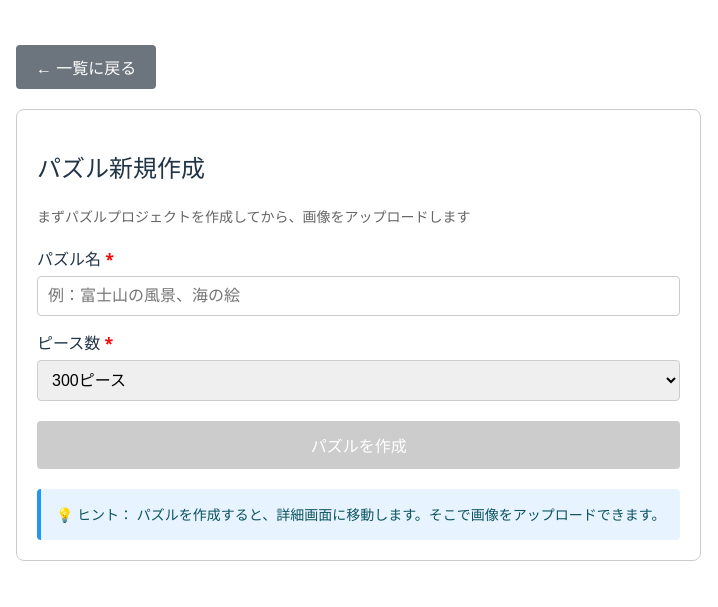
Test: PuzzleCreate › 作成失敗時にエラーメッセージが表示される
Type "テストパズル" into the field with placeholder "例：富士山の風景、海の絵".
click(359, 296); type("テストパズル")  # box [37,276,680,316]
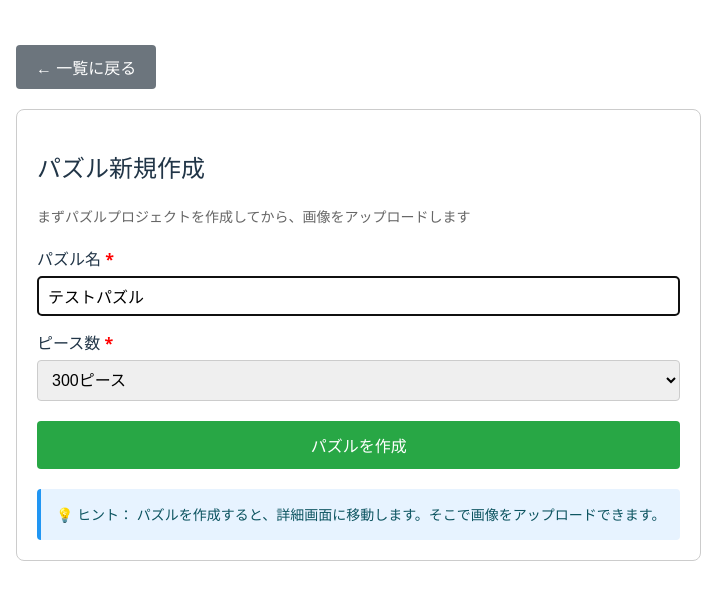
Click the button "パズルを作成".
click(359, 445)  # box [37,421,680,469]
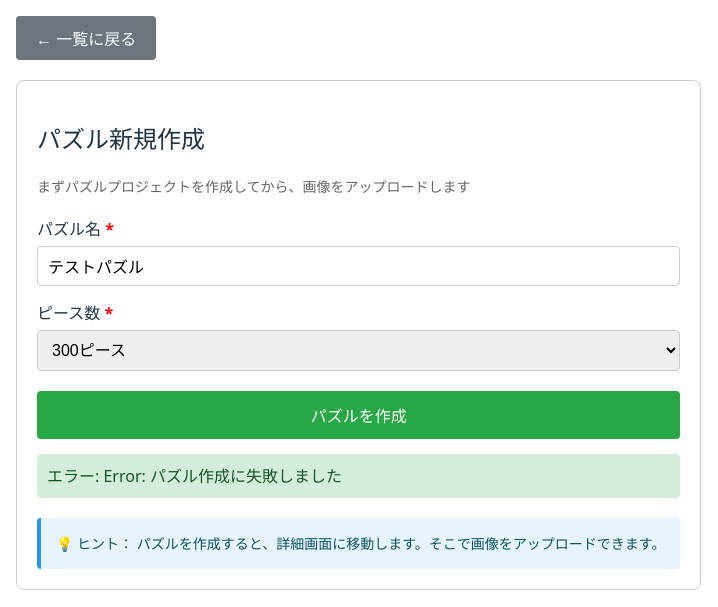
Expected: the text "エラー: Error: パズル作成に失敗しました" is shown, [37,454,680,498]
